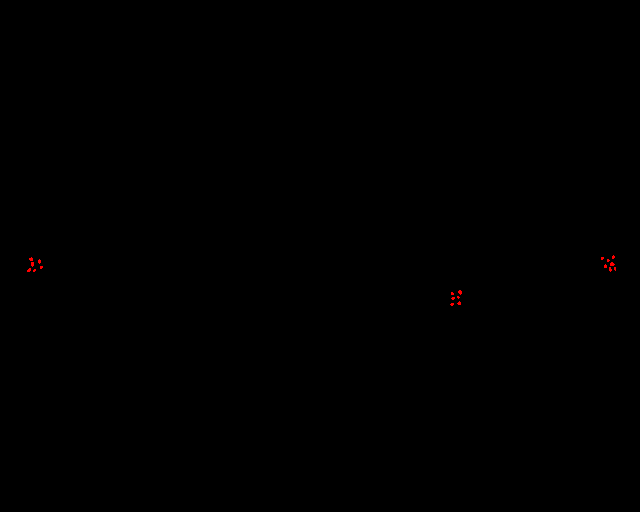Target: (610, 262, 615, 266), (458, 290, 462, 295), (29, 257, 33, 261), (27, 268, 31, 272), (457, 301, 461, 305), (38, 259, 41, 264), (31, 262, 34, 267), (609, 267, 612, 272), (612, 255, 615, 259), (604, 264, 607, 268), (451, 297, 455, 300), (450, 303, 454, 306), (601, 257, 604, 260), (607, 259, 610, 262), (40, 266, 43, 269), (33, 269, 36, 272), (451, 292, 454, 295), (457, 296, 460, 299), (614, 267, 616, 271)
